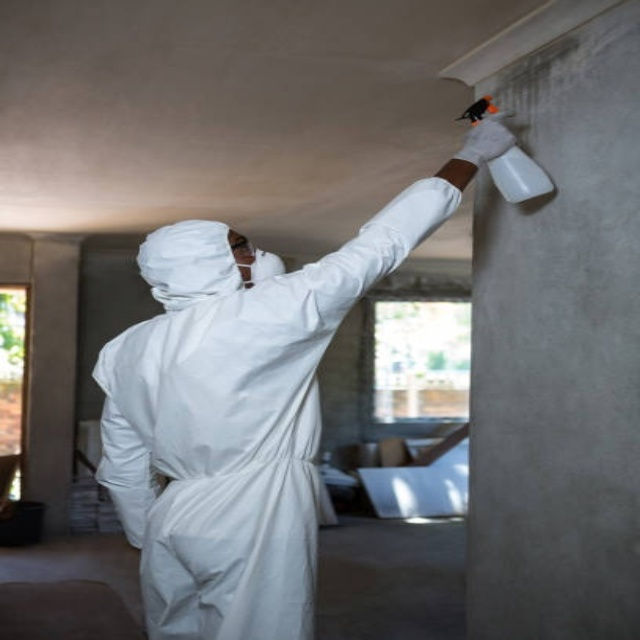Gafas: (229, 235, 249, 252)
Guantes: (452, 115, 518, 167)
Mascara: (240, 245, 290, 289)
